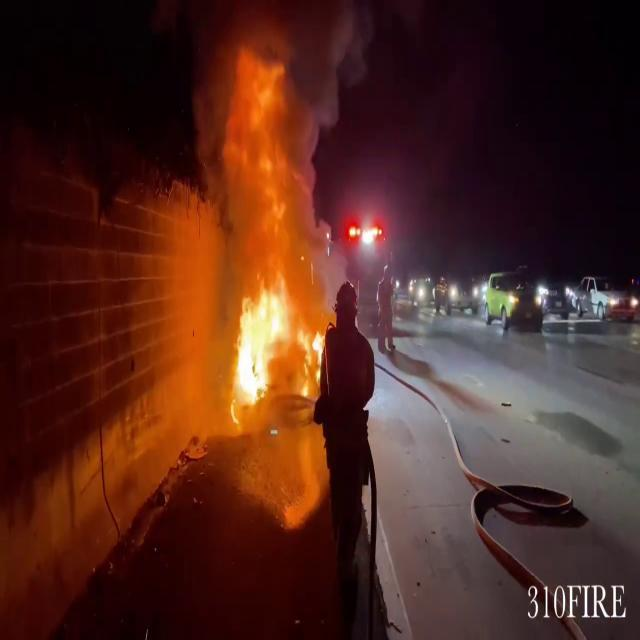Fire: (213, 271, 324, 418)
Smoke: (190, 0, 352, 259)
